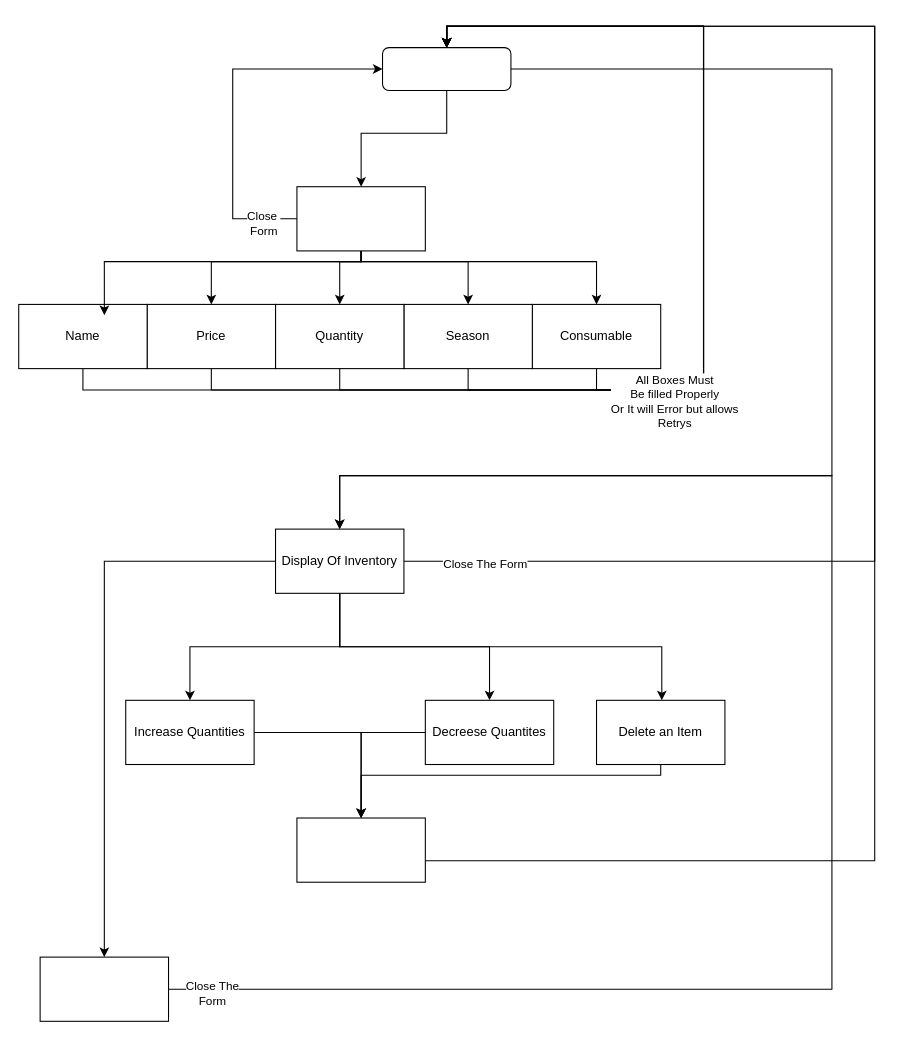
Image size: 902x1040. Some labels were removed from this diagram. Here are the shapes that lost their labels. From the top down, the centre of each, then its label:
At point 446,68: "Home Page".
At point 360,218: "Input Form".
At point 360,849: "Save Changes".
At point 104,988: "Advanced Search Filter DIsplay".
